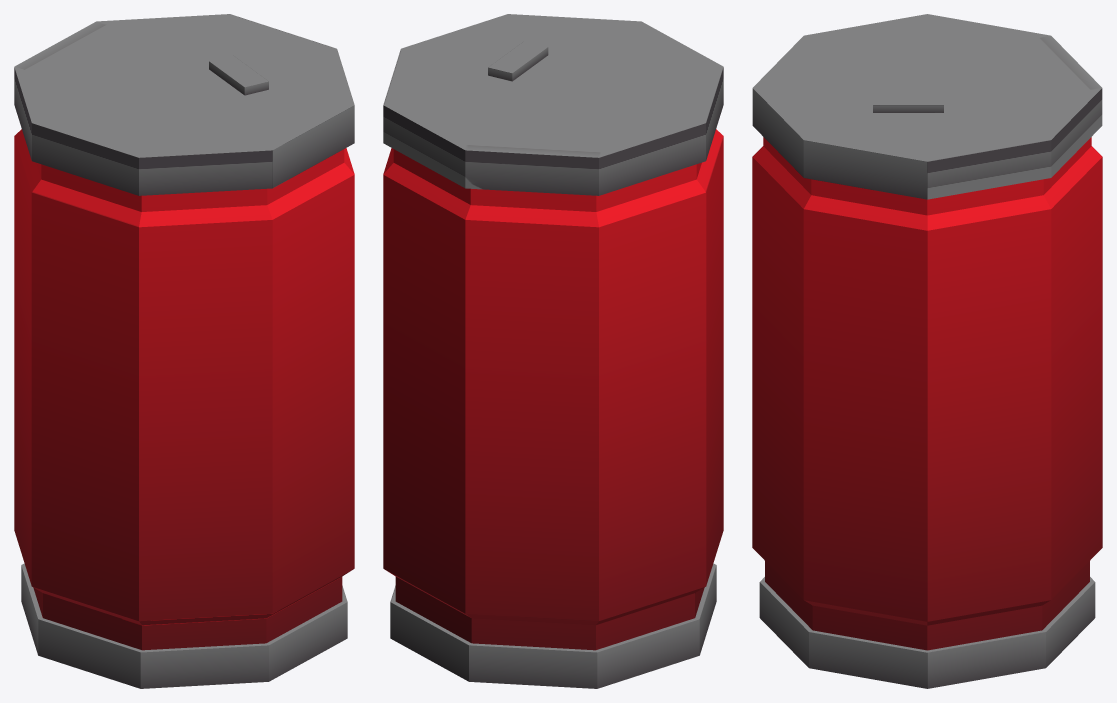
The model's file is Soda Can.glb.
The picture shows the model from 3 angles, left to right: view 1: azimuth 30°, elevation 25°; view 2: azimuth 150°, elevation 25°; view 3: azimuth 270°, elevation 25°; orthographic projection.
Parts seen in each view (by area): view 1: Cylinder, Cylinder.001, Cylinder.002, Plane; view 2: Cylinder, Cylinder.001, Cylinder.002, Plane; view 3: Cylinder, Cylinder.001, Cylinder.002, Plane.
Part boxes in pixels (bbox=[...]): Cylinder: bbox=[14, 129, 354, 650]; Cylinder.001: bbox=[14, 14, 354, 195]; Cylinder.002: bbox=[21, 563, 347, 688]; Plane: bbox=[209, 55, 268, 95]; Cylinder: bbox=[383, 129, 723, 650]; Cylinder.001: bbox=[383, 14, 723, 195]; Cylinder.002: bbox=[390, 563, 716, 688]; Plane: bbox=[488, 41, 548, 81]; Cylinder: bbox=[752, 137, 1102, 650]; Cylinder.001: bbox=[752, 14, 1102, 199]; Cylinder.002: bbox=[759, 577, 1095, 688]; Plane: bbox=[873, 93, 943, 112].
Size of the model in its own units: 2 by 3.41 by 2.
2 materials, 2 textured.
